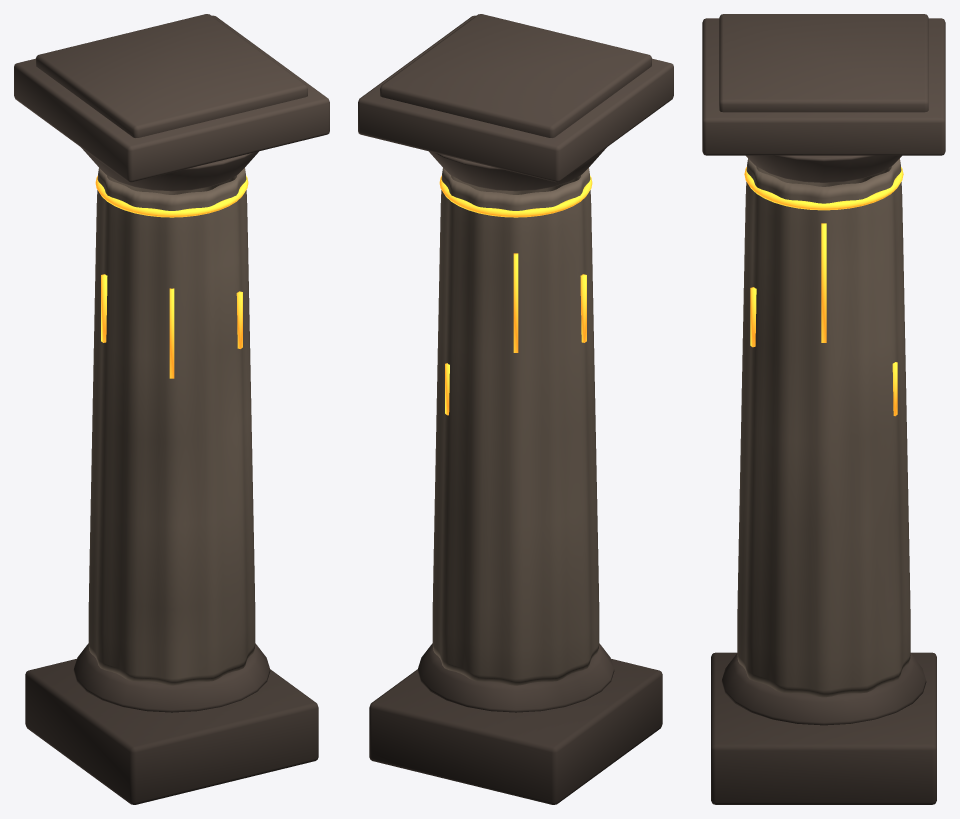
The model's file is pillar.glb.
The picture shows the model from 3 angles, left to right: view 1: azimuth 30°, elevation 25°; view 2: azimuth 150°, elevation 25°; view 3: azimuth 270°, elevation 25°; orthographic projection. The views are drawn at different scales.
Visible parts, largest first — view 1: pillar_shaft, pillar_cap, pillar_base, pillar_rune; view 2: pillar_shaft, pillar_cap, pillar_base, pillar_rune; view 3: pillar_shaft, pillar_cap, pillar_base, pillar_rune.
Part boxes in pixels (x1,y1,x2,y2): pillar_shaft: (88,168,255,685); pillar_cap: (14,14,329,191); pillar_base: (25,643,318,804); pillar_rune: (95,175,248,378); pillar_shaft: (432,168,599,685); pillar_cap: (358,14,673,191); pillar_base: (369,643,662,804); pillar_rune: (439,175,592,415); pillar_shaft: (737,158,910,697); pillar_cap: (702,14,945,182); pillar_base: (711,652,936,804); pillar_rune: (744,167,903,416).
Bounding box in the file's own units: 2.9 × 9.25 × 2.9.
